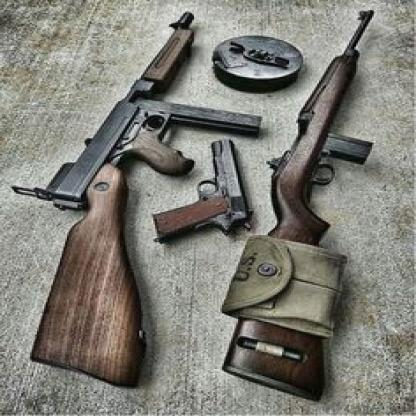Grenade: (212, 31, 307, 94)
Gun: (13, 10, 265, 389), (216, 8, 378, 404)
Pistol: (149, 137, 259, 245)
